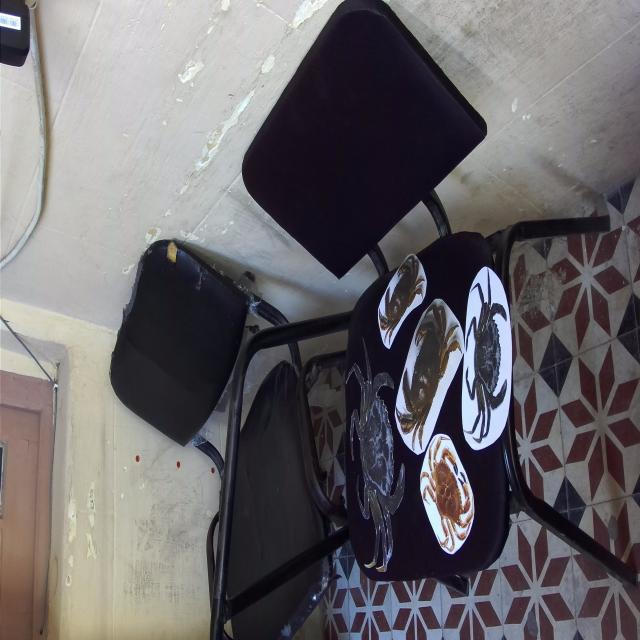European_Green_Crab: (338, 328, 416, 579), (462, 265, 511, 447)
